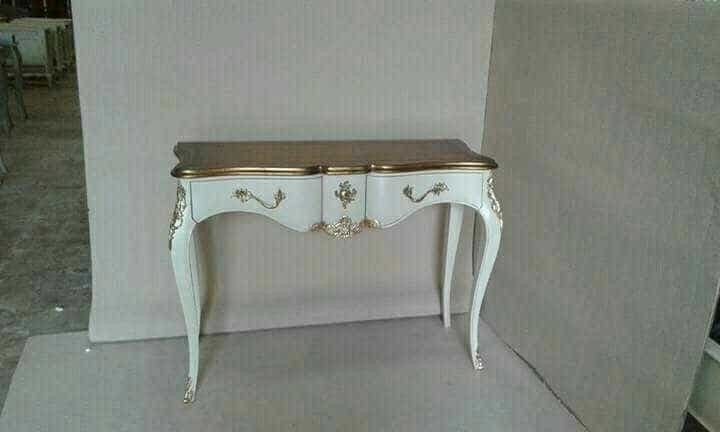Carving Table: (159, 134, 525, 418)
